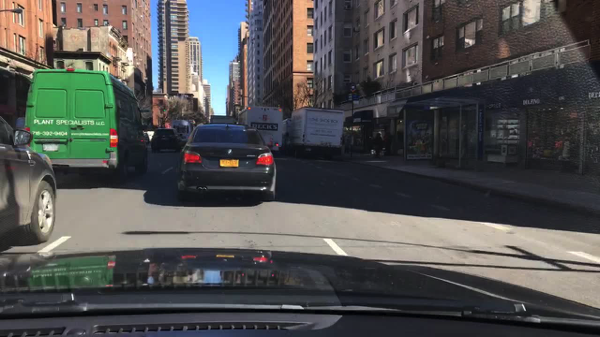car: (24, 67, 147, 182), (177, 123, 277, 204), (0, 114, 57, 248), (151, 128, 181, 155), (13, 117, 27, 150)
person: (372, 132, 386, 159), (384, 130, 393, 154)
traffic light: (162, 107, 166, 113)
traffic sign: (346, 93, 358, 102), (348, 82, 356, 91), (352, 118, 361, 123), (163, 123, 170, 127)
truck: (286, 107, 347, 162), (236, 104, 283, 156), (172, 119, 191, 141), (282, 117, 290, 146)
